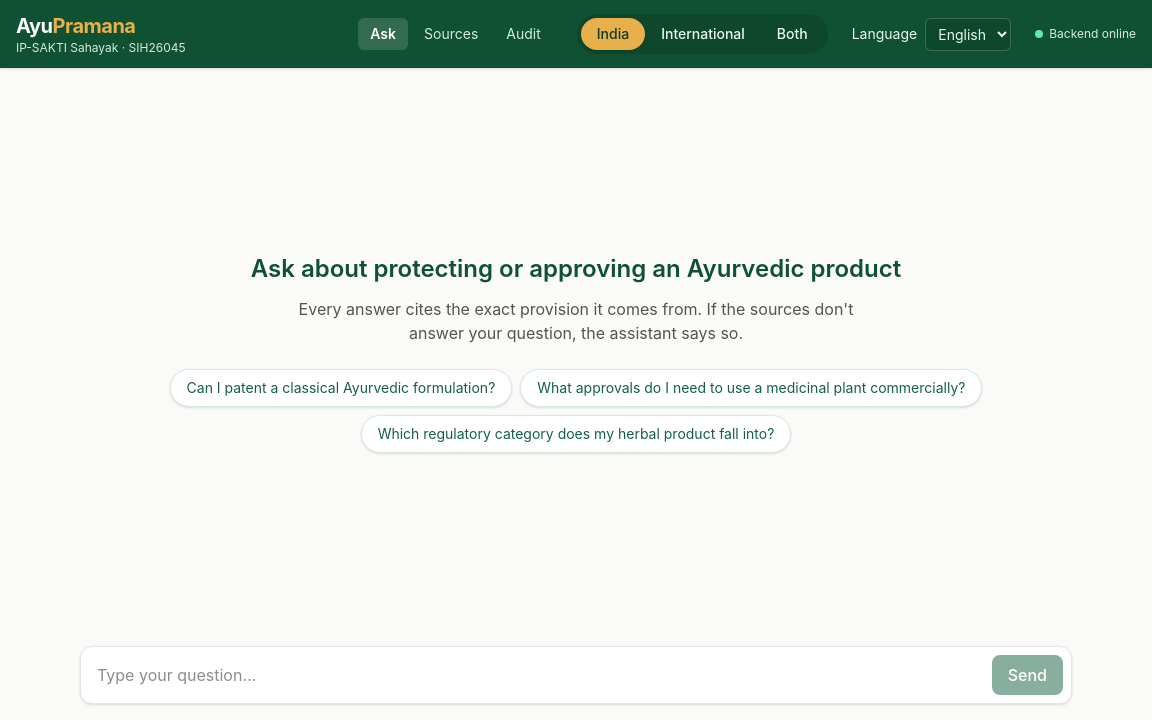
it: Pages › shows the Sources page with version date and chunk count
This screenshot has width=1152, height=720.
Click the link "Sources" at (451, 34), box [424, 25, 478, 42]
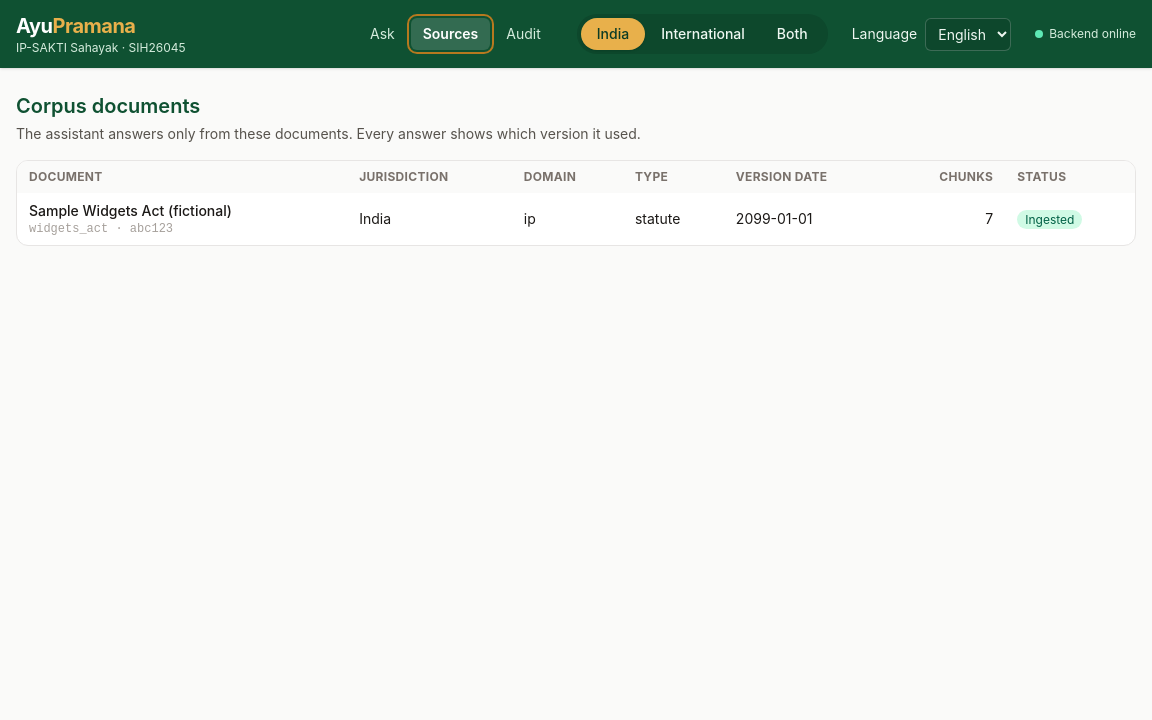
Result: the text "Sample Widgets Act (fictional)" is shown at [29, 202, 232, 219]
Result: the text "2099-01-01" is shown at [724, 193, 892, 245]
Result: the text "7" is shown at [892, 193, 1005, 245]
